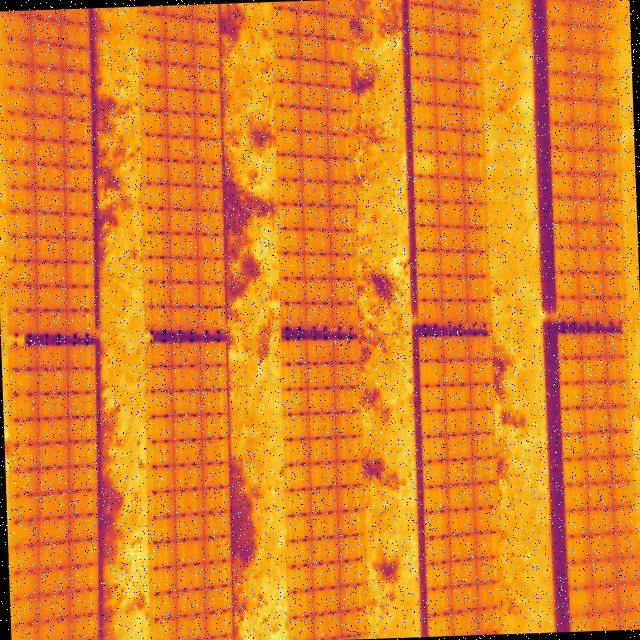Hotspot: (414, 150, 439, 177)
